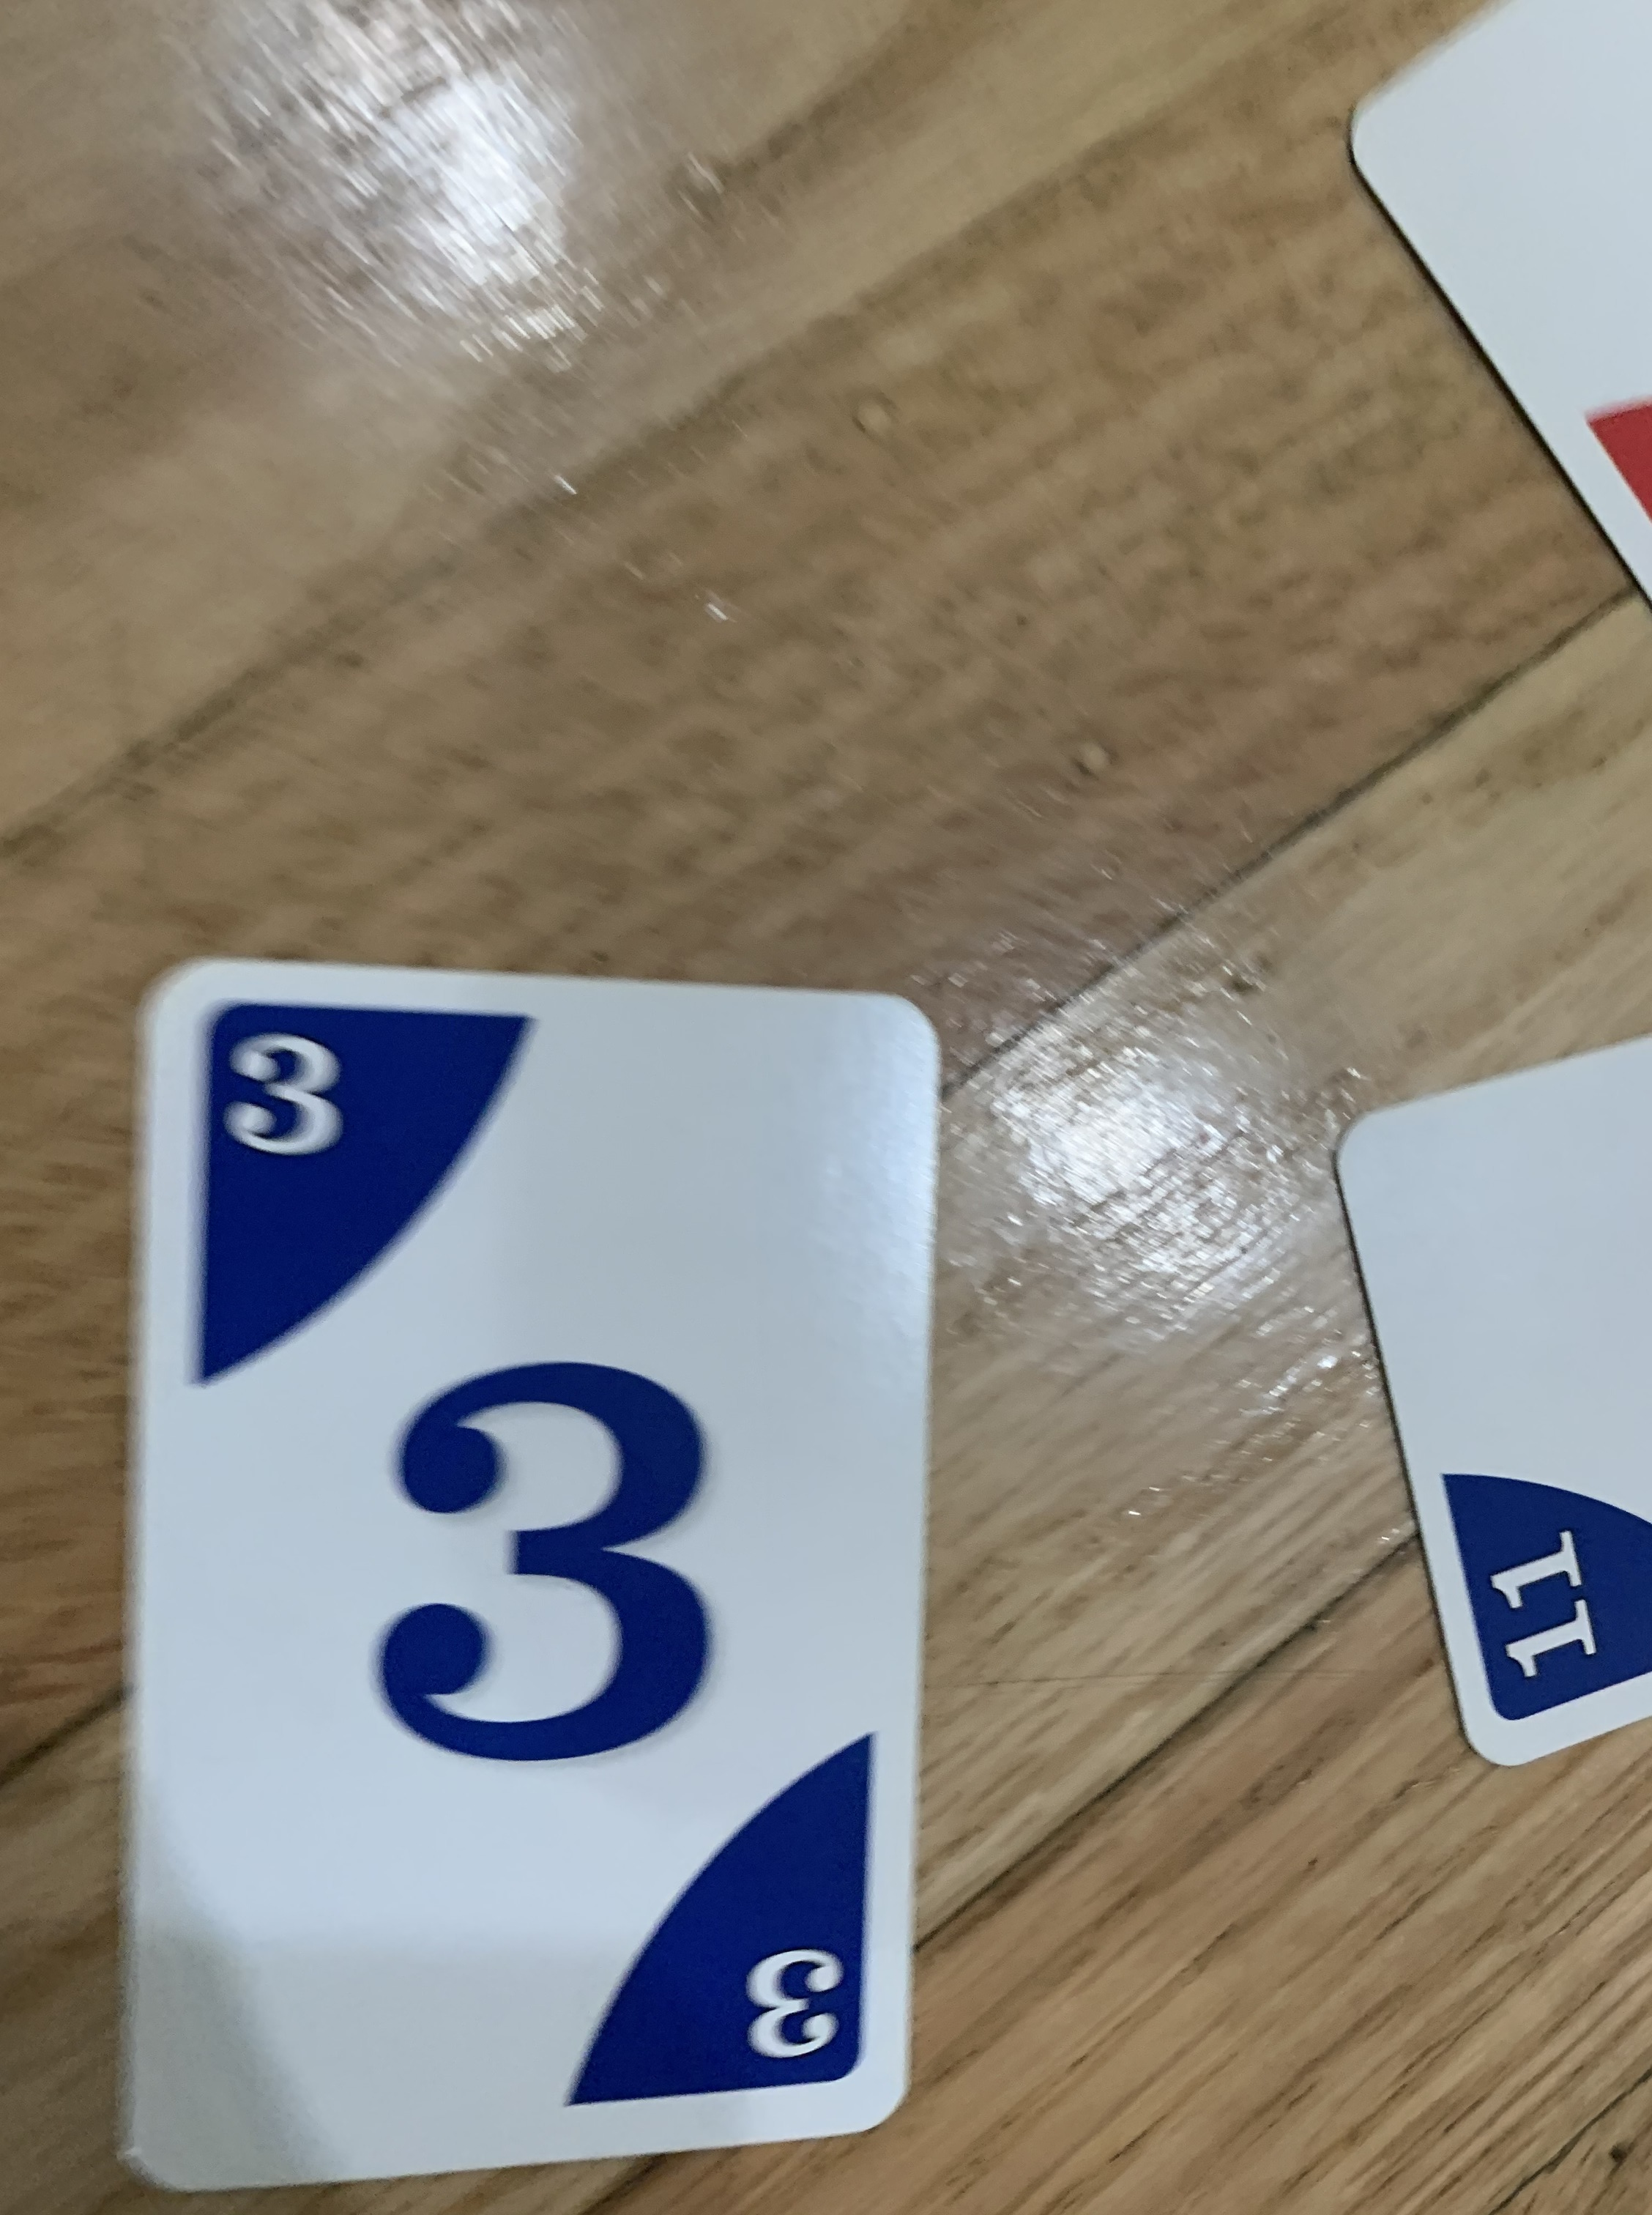three: (104, 941, 951, 2212)
